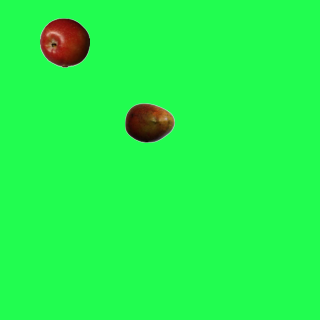Apple Braeburn: (39, 17, 89, 67)
Mango Red: (124, 97, 174, 147)
